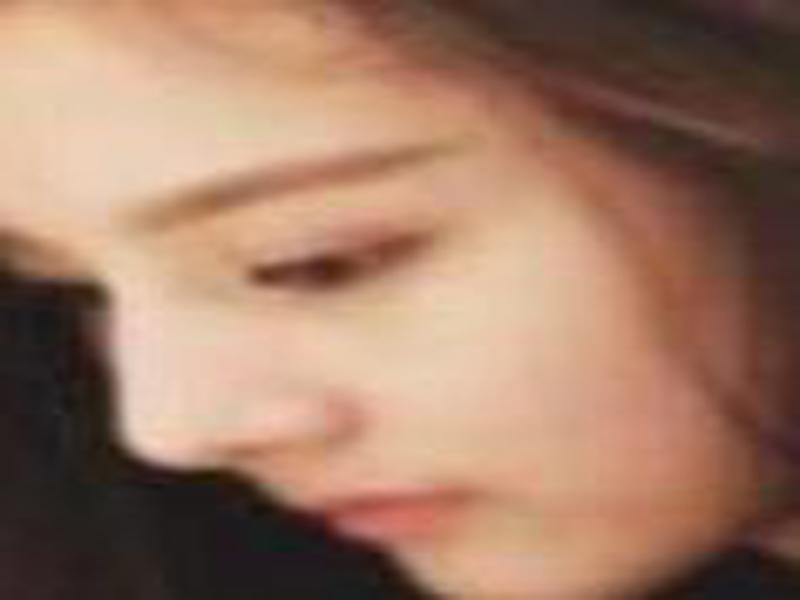without_mask: (4, 10, 736, 595)
